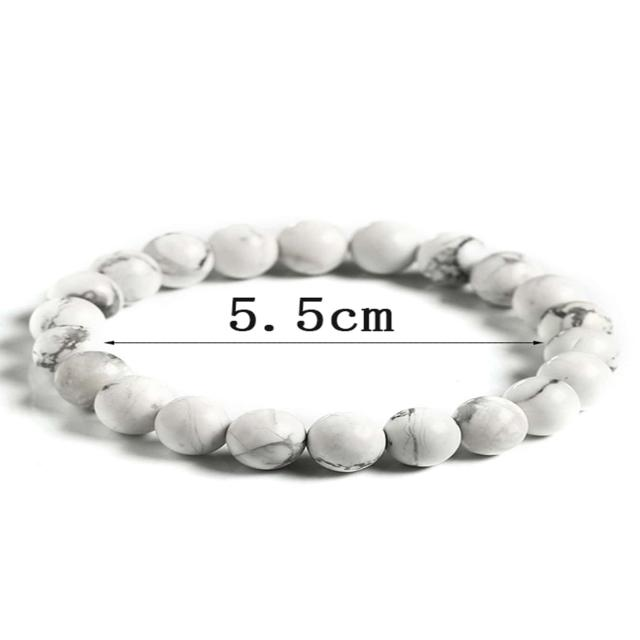bracelet: (0, 119, 640, 508)
